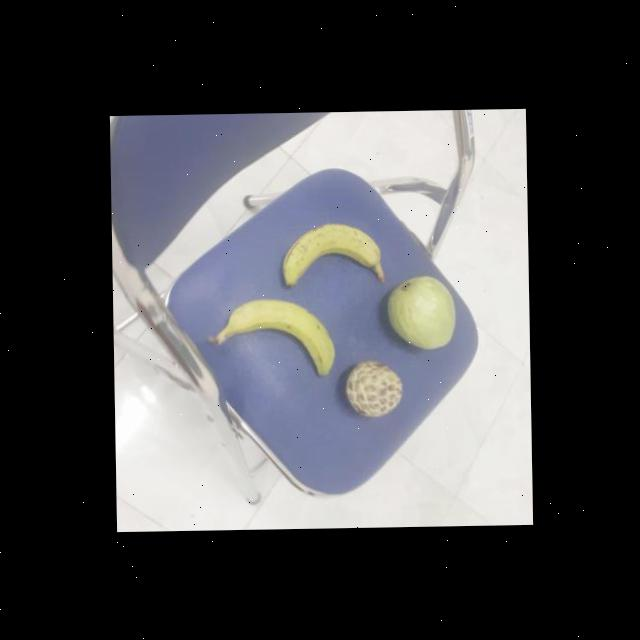Sakya fruit: (343, 362, 403, 422)
banana: (228, 297, 336, 379), (284, 221, 384, 290)
guava: (384, 275, 454, 354)
